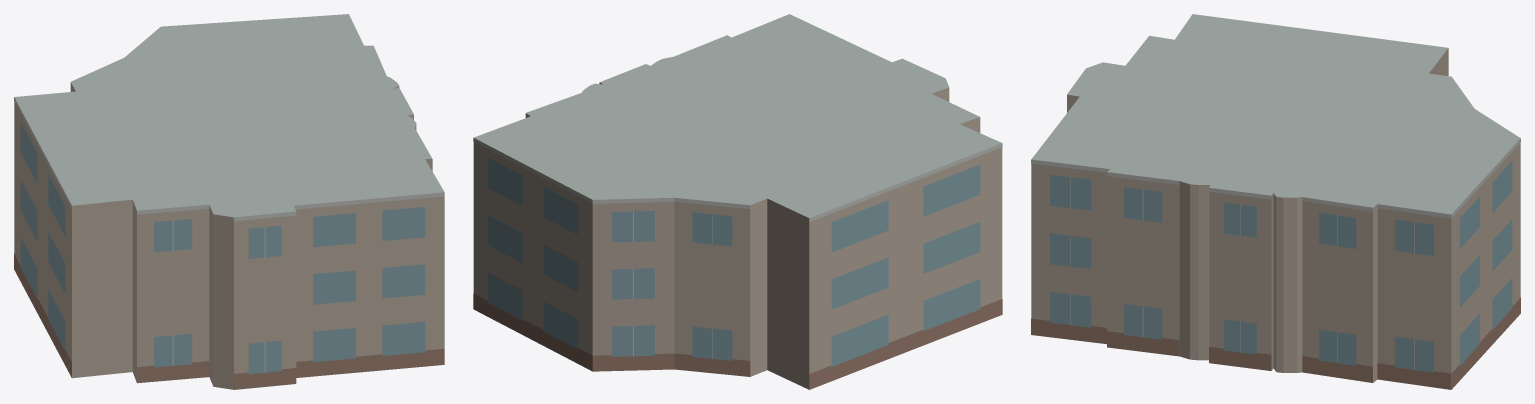
Rendered from survey-upis-32896570.glb.
3 views of the same model, side by side, from view 1: azimuth 30°, elevation 25°; view 2: azimuth 150°, elevation 25°; view 3: azimuth 270°, elevation 25° (orthographic). The views are drawn at different scales.
Visible parts, largest first — view 1: survey-upis-32896570.tmp; view 2: survey-upis-32896570.tmp; view 3: survey-upis-32896570.tmp.
Part boxes in pixels (<box>): survey-upis-32896570.tmp: <box>14,14,444,389</box>; survey-upis-32896570.tmp: <box>473,14,1002,389</box>; survey-upis-32896570.tmp: <box>1031,14,1520,389</box>.
Bounding box in the file's own units: 25.88 × 10.55 × 26.71.
